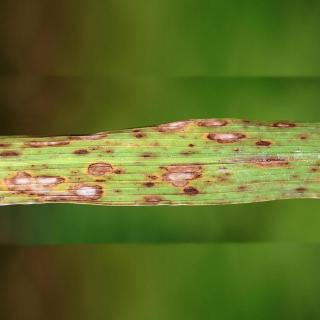Blast: (147, 115, 258, 150), (20, 129, 114, 156), (11, 162, 60, 190), (158, 162, 204, 190), (67, 178, 111, 204)
